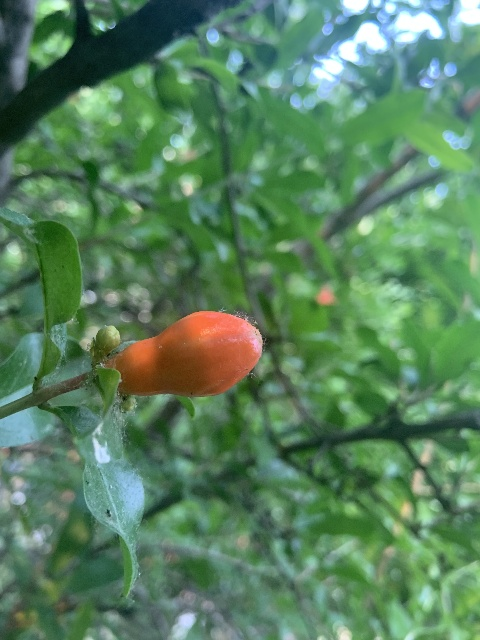bud: (108, 310, 262, 398), (96, 324, 120, 353)
